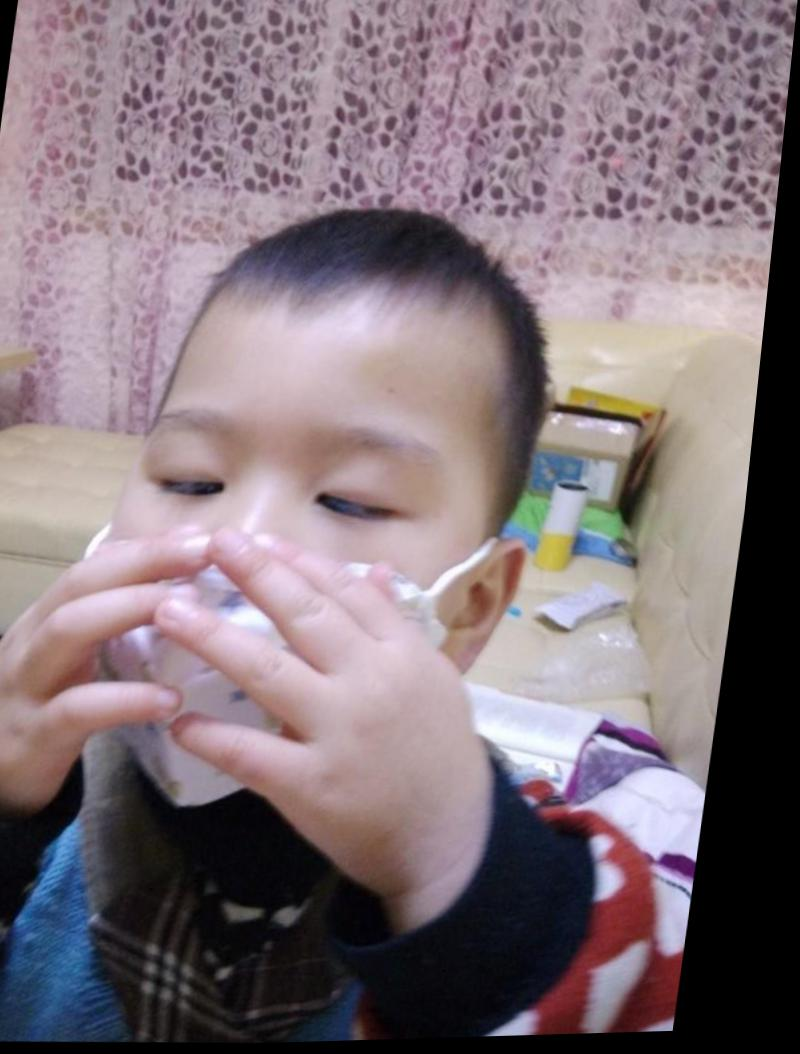WRONG: (90, 378, 521, 785)
